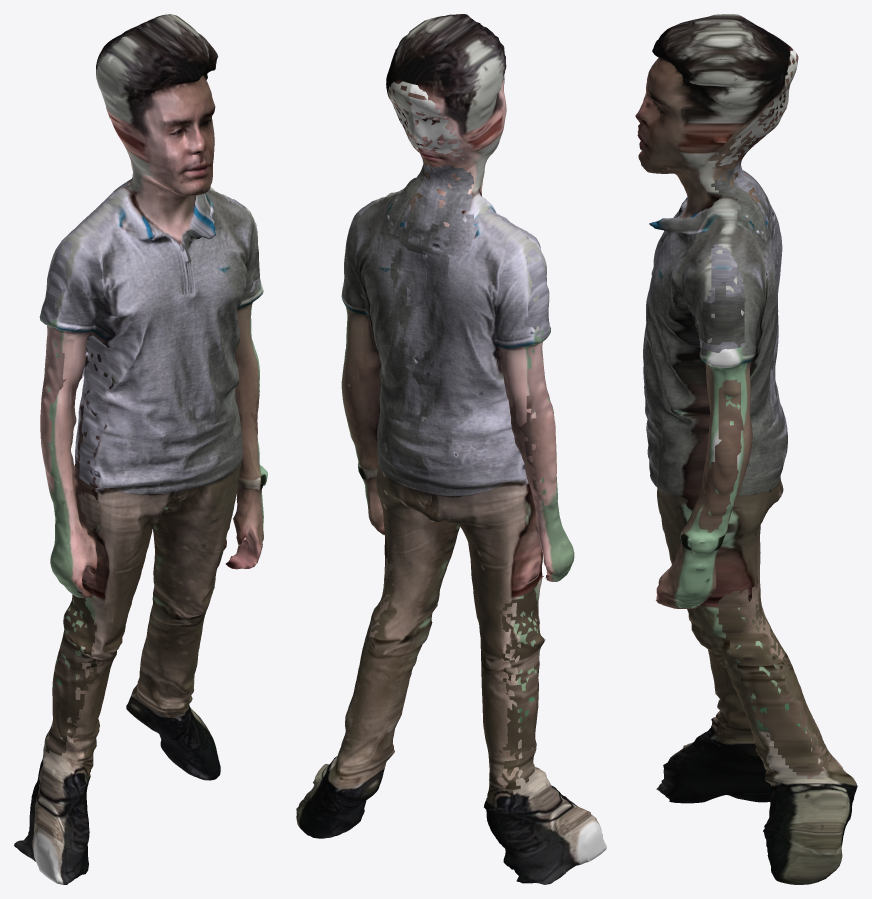
3 renders of one model, left to right at view 1: azimuth 30°, elevation 25°; view 2: azimuth 150°, elevation 25°; view 3: azimuth 270°, elevation 25°, orthographic. The views are drawn at different scales.
Visible parts, largest first — view 1: result_photo_2023-05-30_16-19-19_256; view 2: result_photo_2023-05-30_16-19-19_256; view 3: result_photo_2023-05-30_16-19-19_256.
Part boxes in pixels (x1,y1,x2,y2): result_photo_2023-05-30_16-19-19_256: (14, 14, 267, 884); result_photo_2023-05-30_16-19-19_256: (296, 14, 606, 884); result_photo_2023-05-30_16-19-19_256: (635, 14, 857, 884).
Bounding box in the file's own units: 0.5853 × 1.96 × 0.4705.
1 material, 1 textured.
